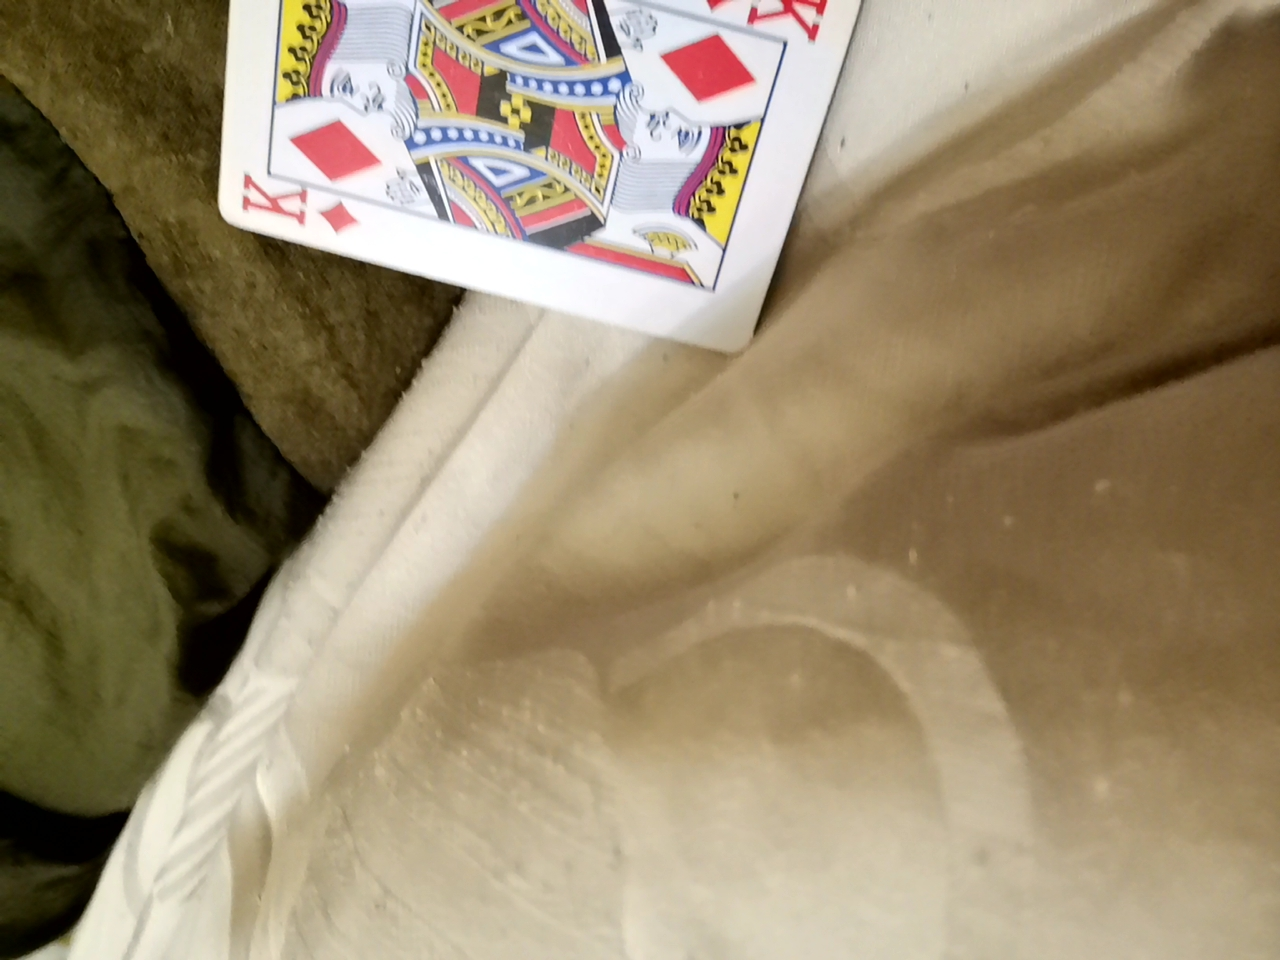fk k: (172, 0, 833, 393)
